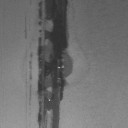slag inclusion: (37, 0, 73, 128), (24, 16, 28, 39), (29, 83, 32, 108), (29, 60, 32, 80), (30, 53, 32, 58)
